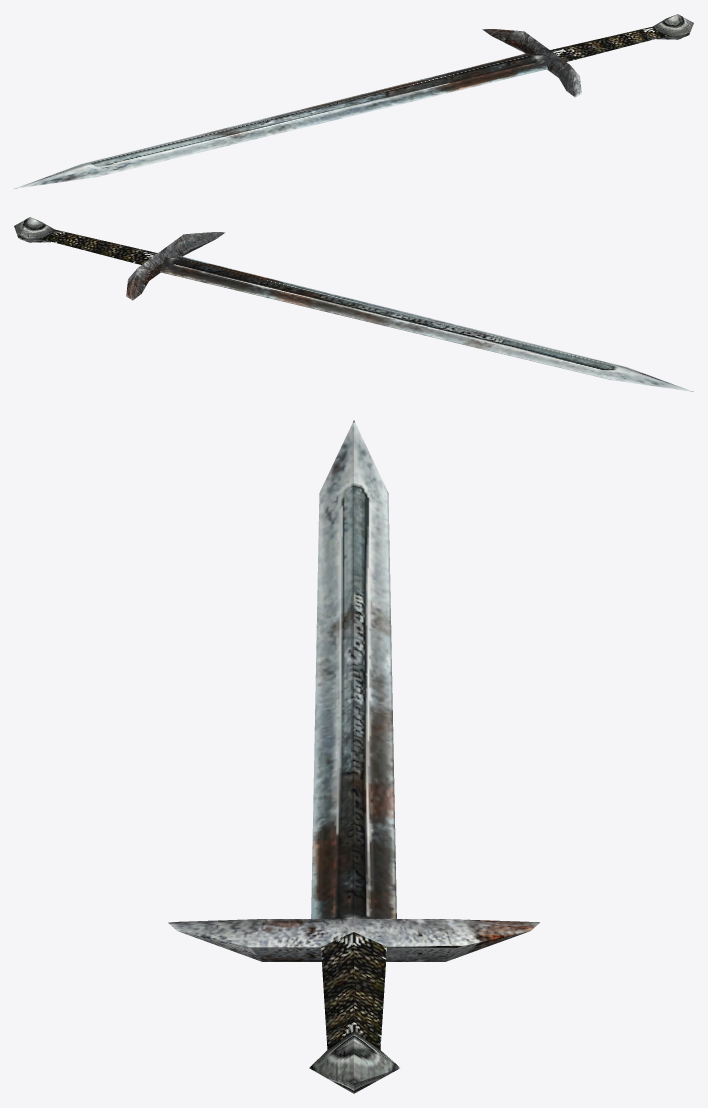
File: miecz3.glb
The picture shows the model from 3 angles, top to bottom: view 1: azimuth 30°, elevation 25°; view 2: azimuth 150°, elevation 25°; view 3: azimuth 270°, elevation 25°; orthographic projection. The views are drawn at different scales.
Visible parts, largest first — view 1: zengin; view 2: zengin; view 3: zengin.
Boxes of the visible parts, <box> form: zengin: <box>14,14,693,188</box>; zengin: <box>14,217,693,391</box>; zengin: <box>168,420,539,1093</box>.
Size of the model in its own units: 0.8718 by 0.0317 by 0.2073.
2 materials, 2 textured.
